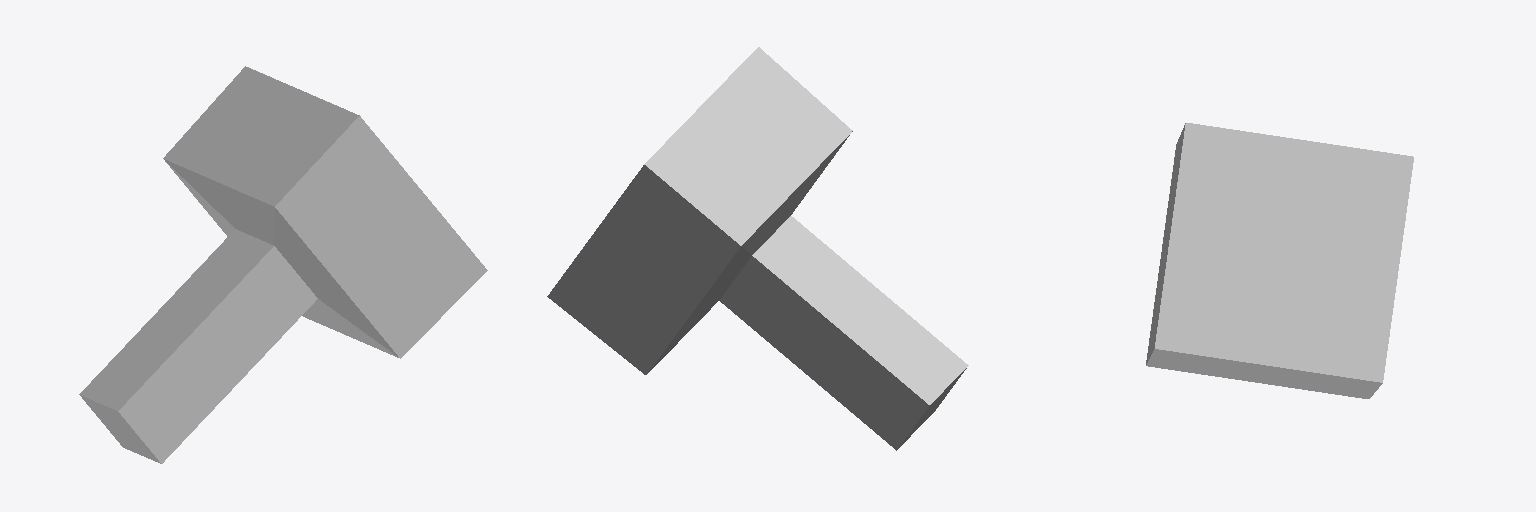
3 views of the same model, side by side, from view 1: azimuth 30°, elevation 25°; view 2: azimuth 150°, elevation 25°; view 3: azimuth 270°, elevation 25° (orthographic).
Visible parts, largest first — view 1: BG1_Plane; view 2: BG1_Plane; view 3: BG1_Plane.
Boxes of the visible parts, x1,y1,x2,y2 form: BG1_Plane: [79, 66, 487, 463]; BG1_Plane: [547, 47, 968, 450]; BG1_Plane: [1146, 123, 1413, 398].
Size of the model in its own units: 0.2583 by 0.235 by 0.1774.